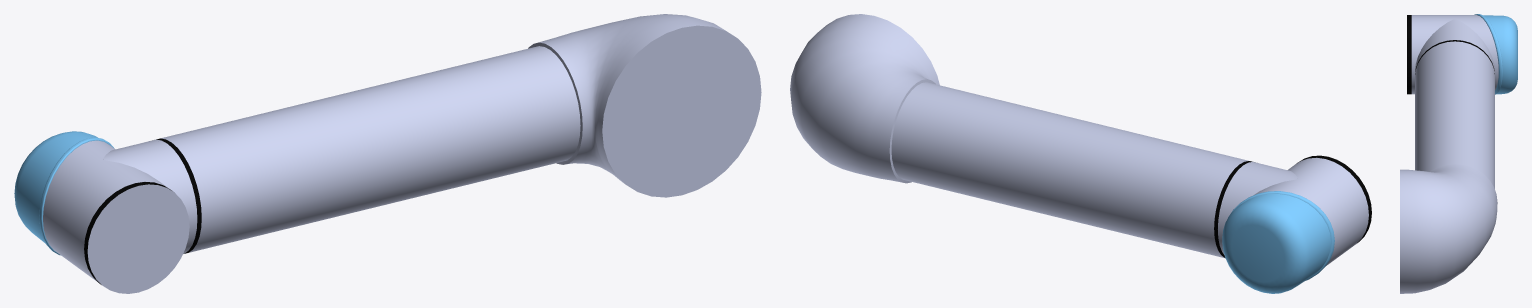
3 views of the same model, side by side, from view 1: azimuth 30°, elevation 25°; view 2: azimuth 150°, elevation 25°; view 3: azimuth 270°, elevation 25° (orthographic). The views are drawn at different scales.
Visible parts, largest first — view 1: R3; view 2: R3; view 3: R3.
Part boxes in pixels (x1,y1,x2,y2): R3: [14, 14, 761, 293]; R3: [790, 14, 1371, 293]; R3: [1400, 14, 1517, 293].
Bounding box in the file's own units: 0.4843 × 0.1157 × 0.1094.
